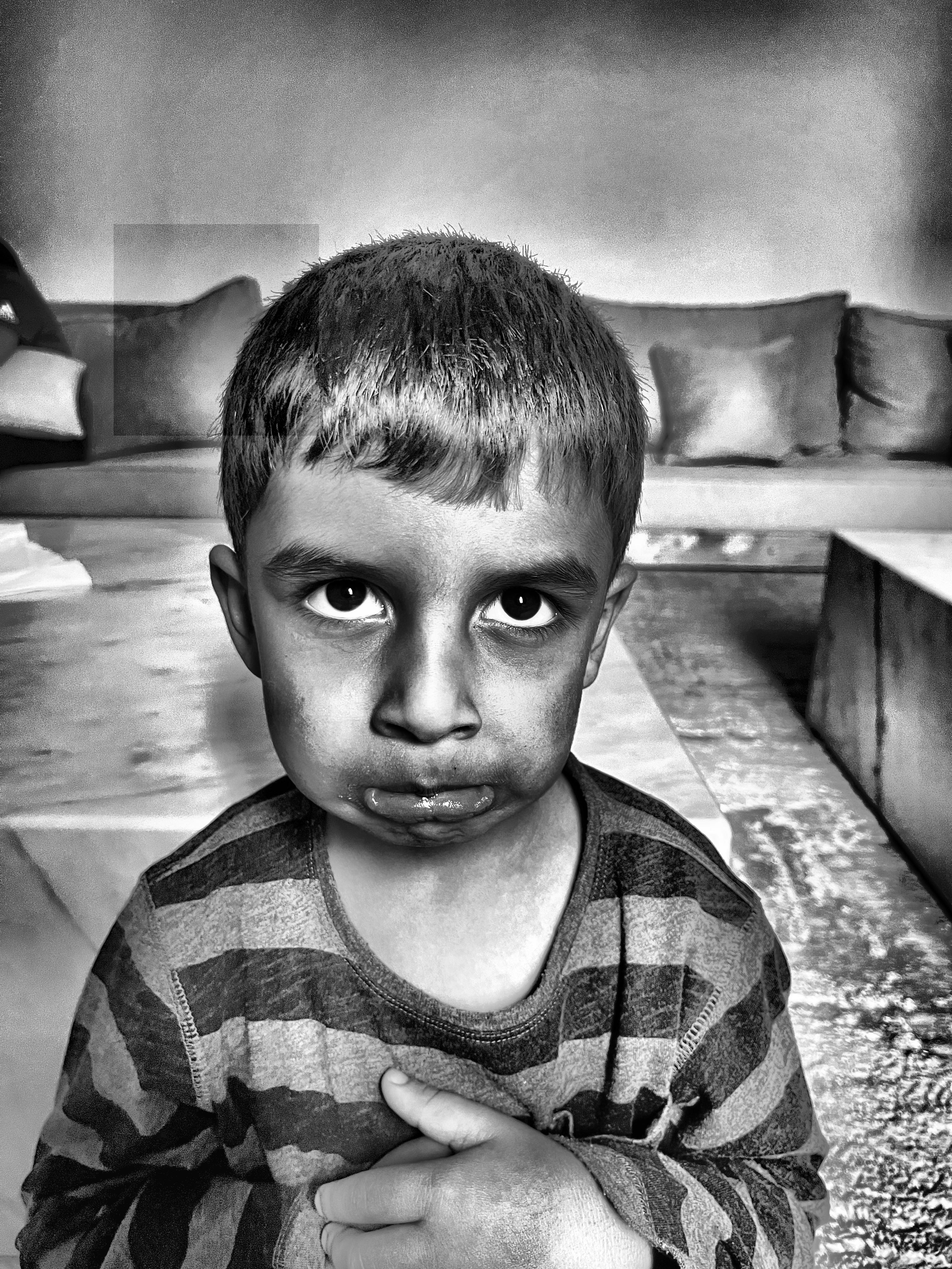Sad: (224, 441, 628, 858)
